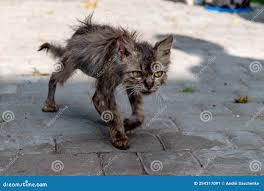cat: (37, 16, 174, 148)
